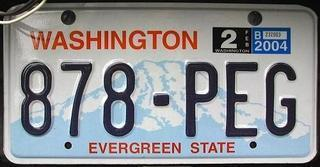placa de veiculo: (7, 8, 315, 165)
